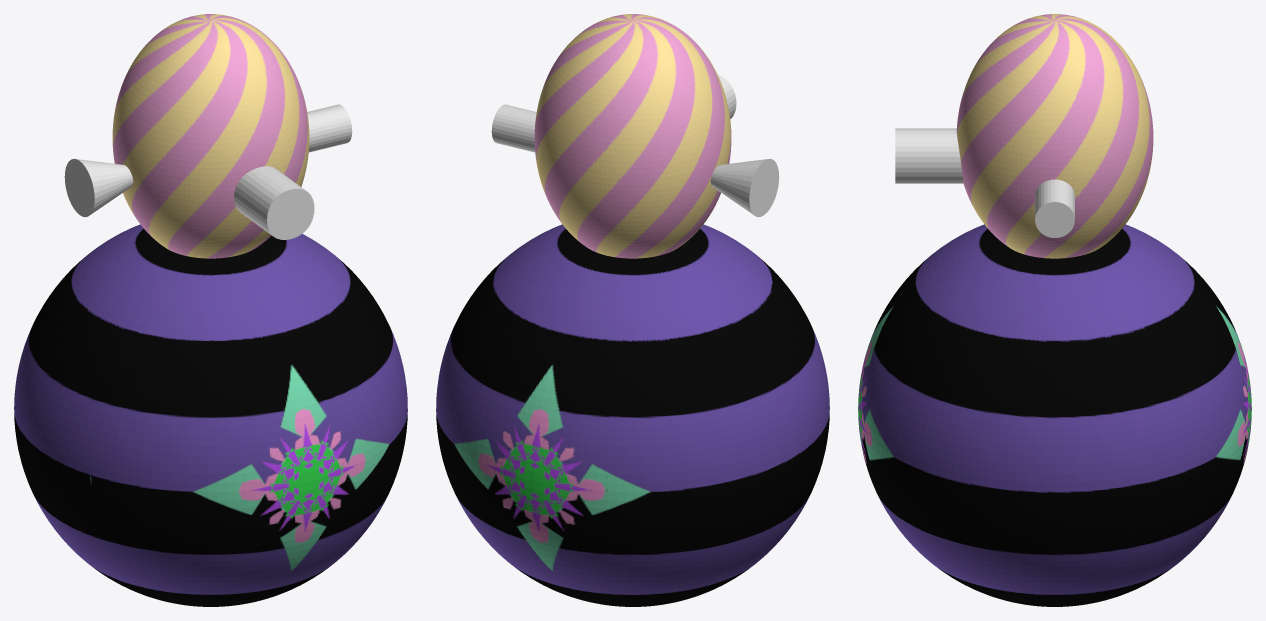
Rendered from BOD0_BMC1_BCC9_BPT1_FRC29_HEA2_HMC17_HCC13_HPT3_ELT3_ERT1_ELL0_ERL1_AP0_AAL0_AAR0_BEK1.fbx.
The picture shows the model from 3 angles, left to right: view 1: azimuth 30°, elevation 25°; view 2: azimuth 150°, elevation 25°; view 3: azimuth 270°, elevation 25°; orthographic projection.
Parts seen in each view (by area): view 1: Body, Beak, Ear, Ear.001; view 2: Body, Ear, Ear.001; view 3: Body, Beak, Ear.001.
Part boxes in pixels (x1=…): Body: x1=14, y1=14, x2=407, y2=606; Beak: x1=234, y1=166, x2=314, y2=239; Ear: x1=64, y1=159, x2=133, y2=217; Ear.001: x1=307, y1=104, x2=352, y2=152; Body: x1=436, y1=14, x2=829, y2=606; Ear: x1=710, y1=159, x2=779, y2=217; Ear.001: x1=491, y1=104, x2=536, y2=152; Body: x1=858, y1=14, x2=1251, y2=606; Beak: x1=895, y1=128, x2=963, y2=183; Ear.001: x1=1035, y1=179, x2=1074, y2=237.
Size of the model in its own units: 49.36 by 78.65 by 49.36.
1 material, 1 textured.
